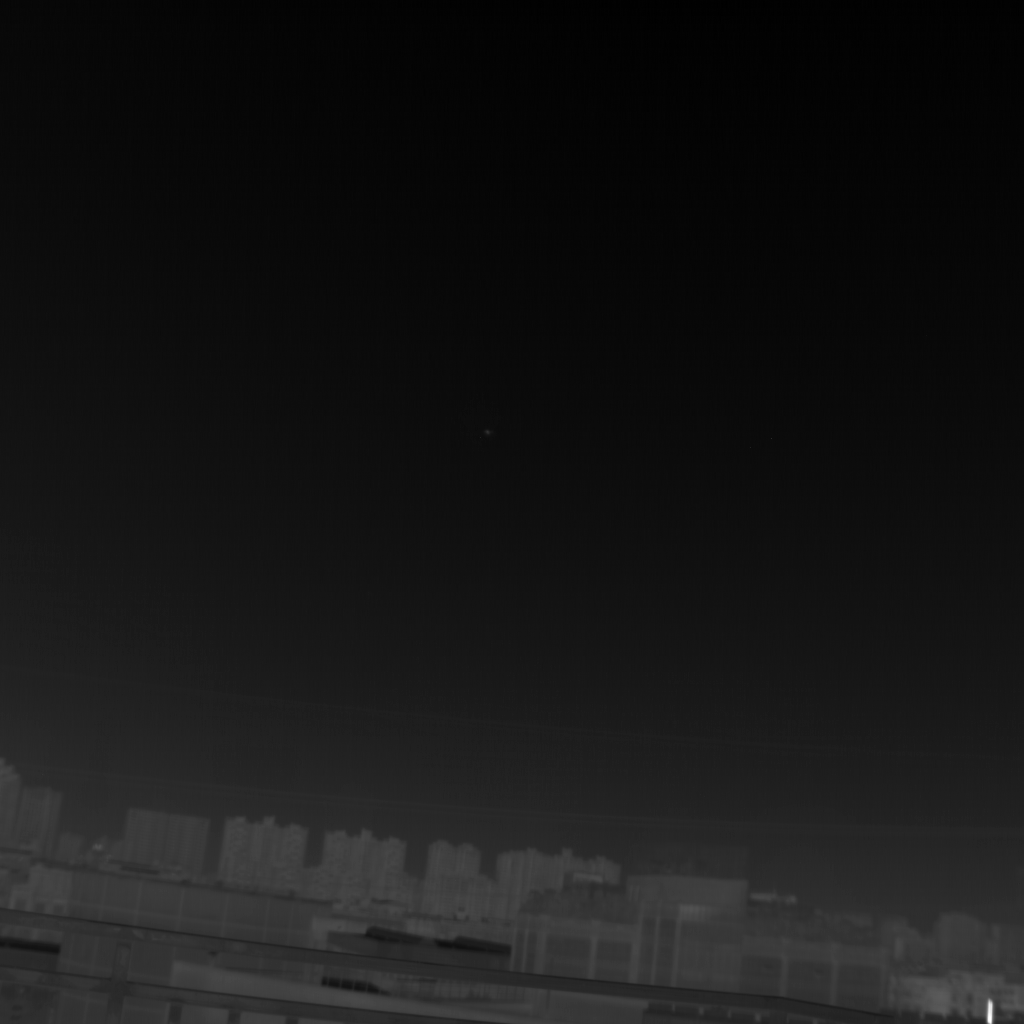Target: (486, 431, 491, 435)
